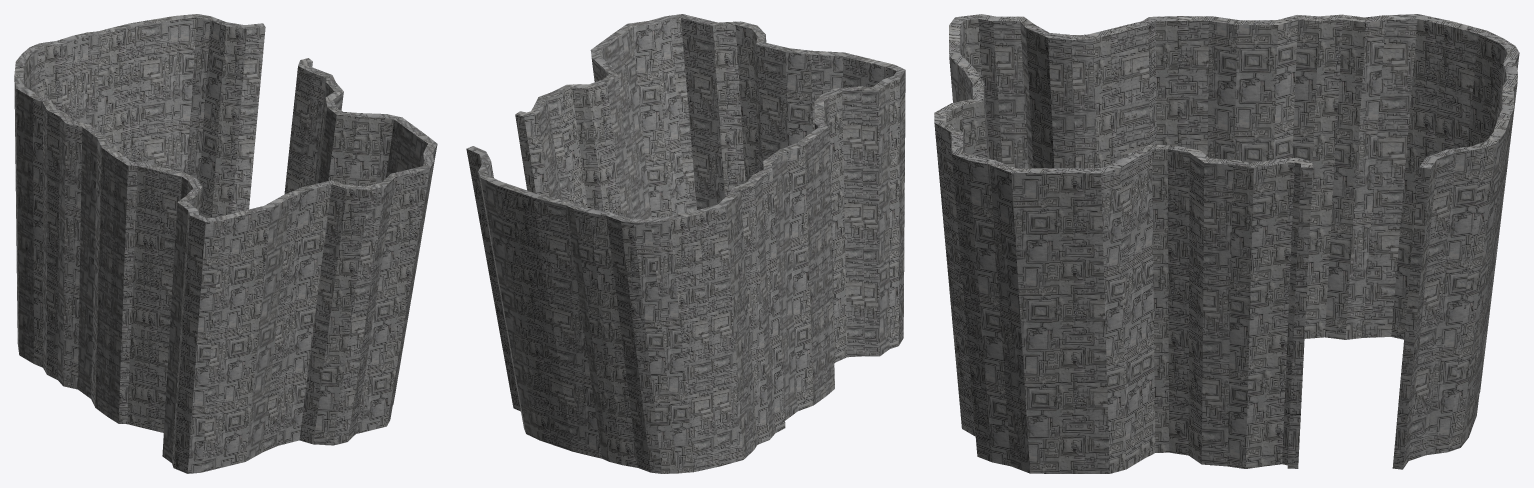
The model's file is Area3_StickyLedge.fbx.
The picture shows the model from 3 angles, left to right: view 1: azimuth 30°, elevation 25°; view 2: azimuth 150°, elevation 25°; view 3: azimuth 270°, elevation 25°; orthographic projection. The views are drawn at different scales.
Parts seen in each view (by area): view 1: Area3_StickyLedge; view 2: Area3_StickyLedge; view 3: Area3_StickyLedge.
Boxes of the visible parts, bbox=[...] form: Area3_StickyLedge: bbox=[14, 14, 437, 473]; Area3_StickyLedge: bbox=[466, 14, 905, 473]; Area3_StickyLedge: bbox=[934, 14, 1519, 473].
Size of the model in its own units: 1841 by 1692 by 2778.
Materials: 1 (1 with a texture image).
